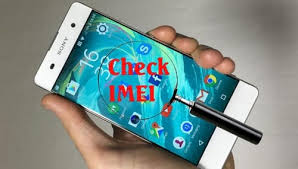sony: (28, 2, 265, 169)
